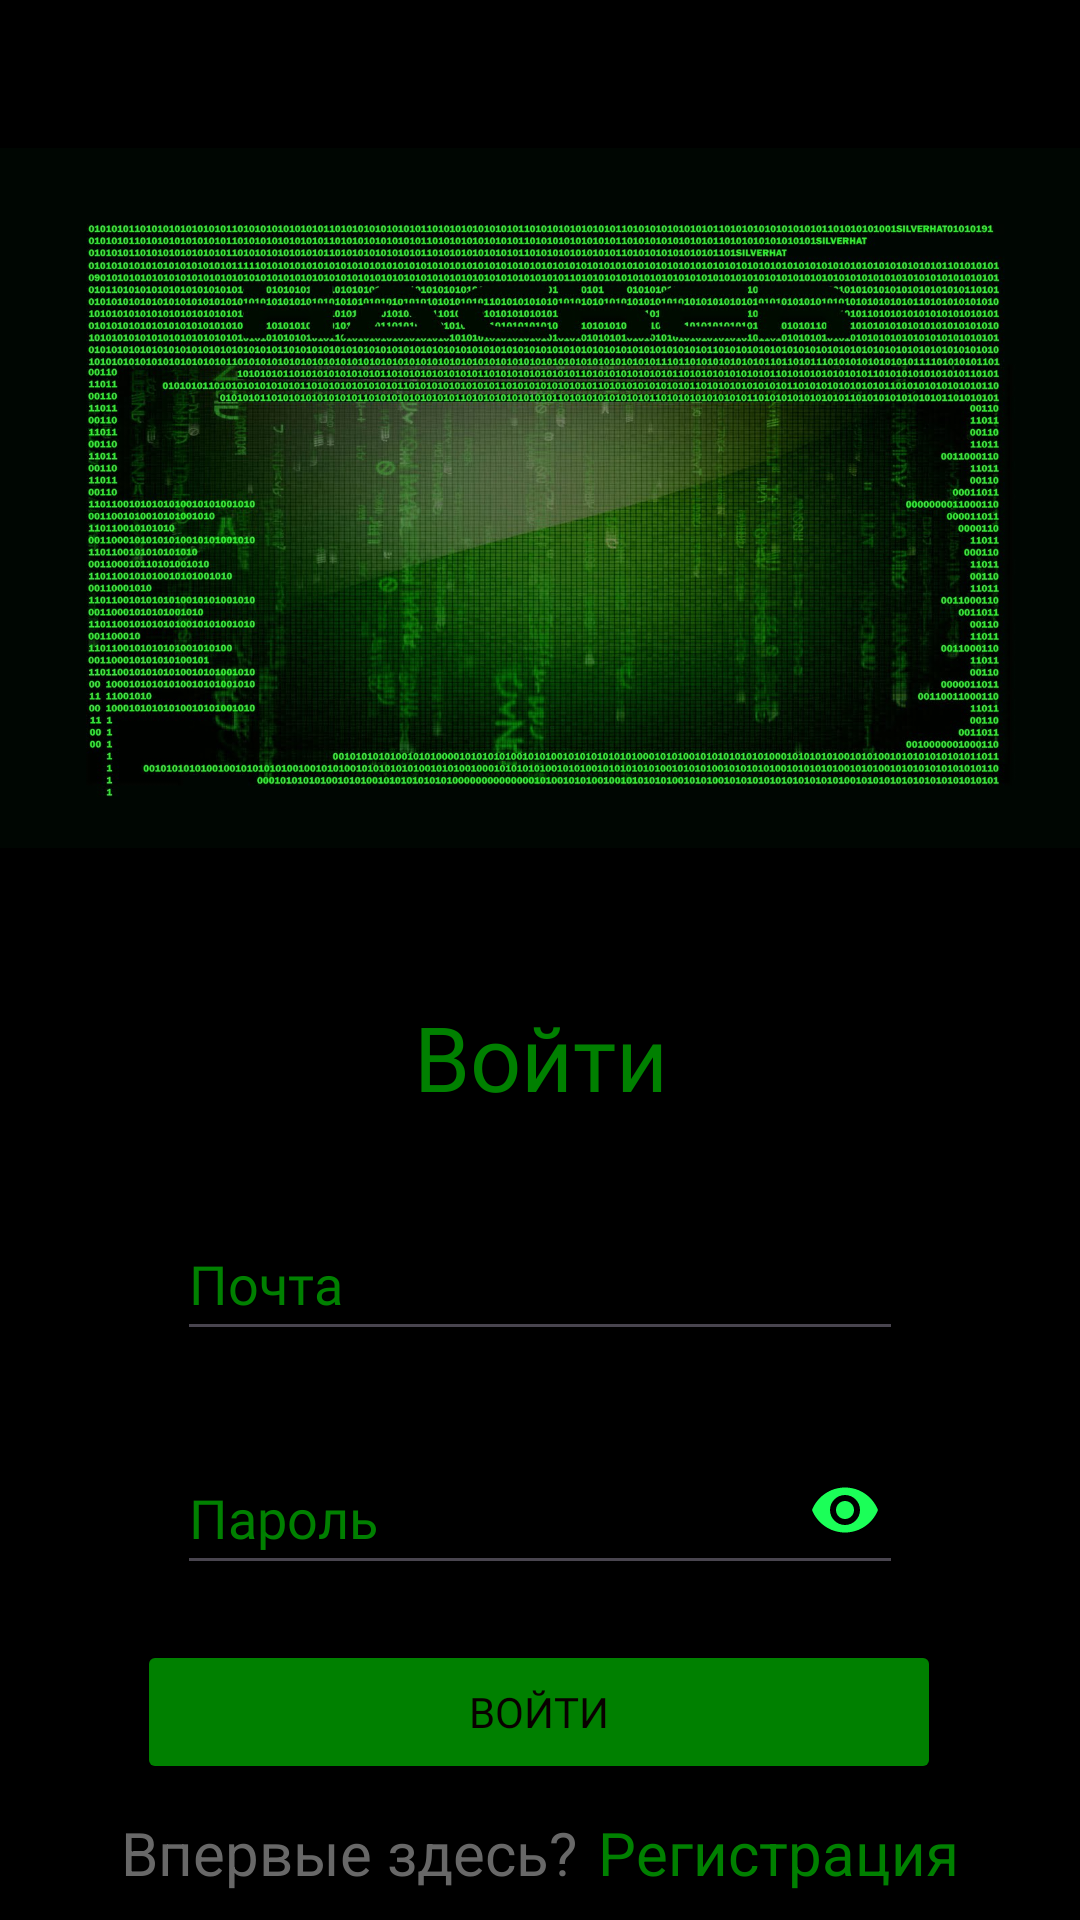

Screen size 1080w x 1920h. Icon name, then its center in pixels as point (x, y):
remove eye: point (845, 1510)
